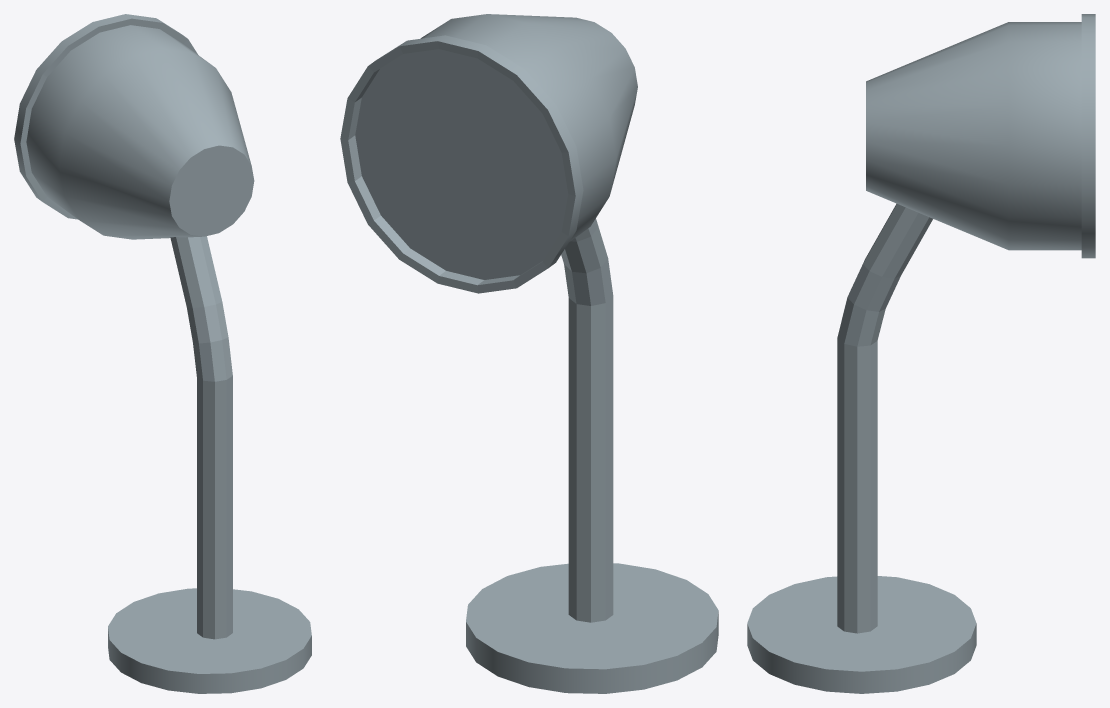
Rendered from lamp.fbx.
3 renders of one model, left to right at view 1: azimuth 30°, elevation 25°; view 2: azimuth 150°, elevation 25°; view 3: azimuth 270°, elevation 25°, orthographic. The views are drawn at different scales.
Parts seen in each view (by area): view 1: pCylinder4; view 2: pCylinder4; view 3: pCylinder4.
Part boxes in pixels (x1,y1,x2,y2): pCylinder4: (14,14,311,693); pCylinder4: (340,14,718,693); pCylinder4: (747,14,1095,693).
Bounding box in the file's own units: 2.14 × 5.98 × 3.04.
